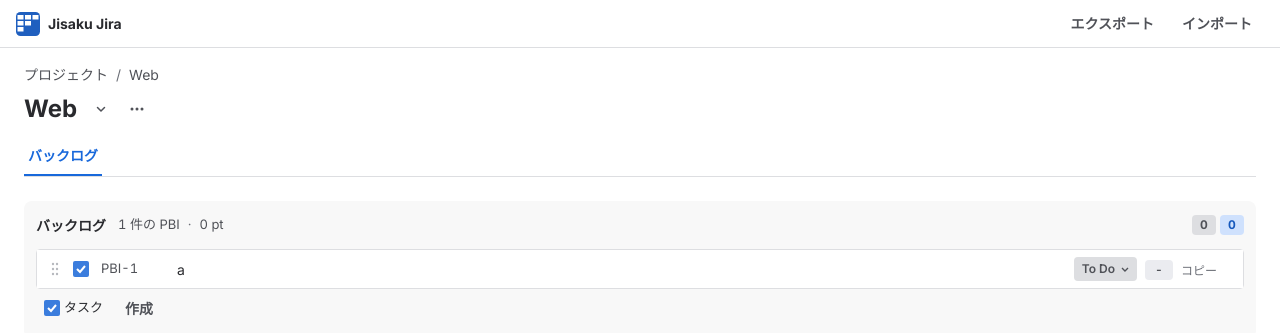
Test: プロジェクトの切り替え › メニューでプロジェクトを選ぶとその一覧に切り替わり、メニューが閉じる
The image size is (1280, 333).
Click the button named "プロジェクトを切り替え" at {"x": 101, "y": 109}, box [85, 93, 117, 125]
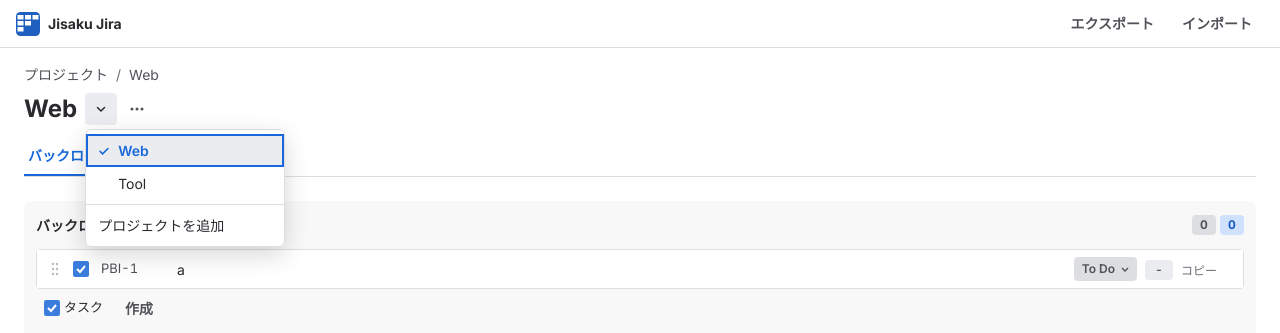
Click the menu item "Tool" at {"x": 185, "y": 184}, box [86, 167, 284, 200]
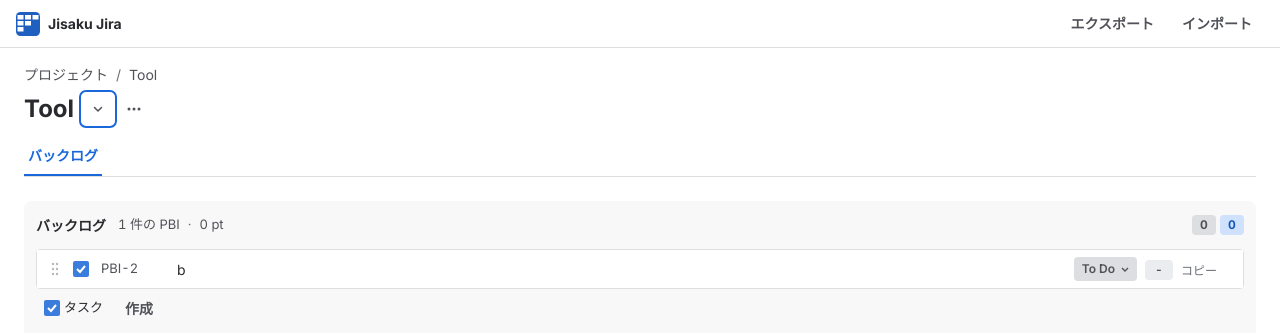
Check: the text "Tool" is shown, box [129, 66, 157, 83]
Check: the menu is gone
